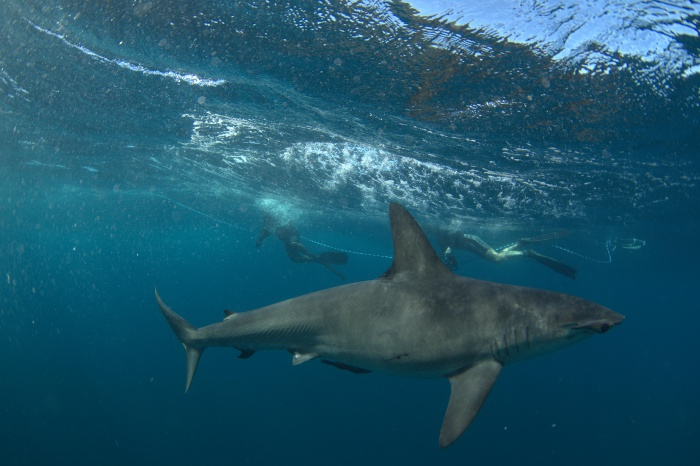Hammer: (138, 204, 651, 466)
